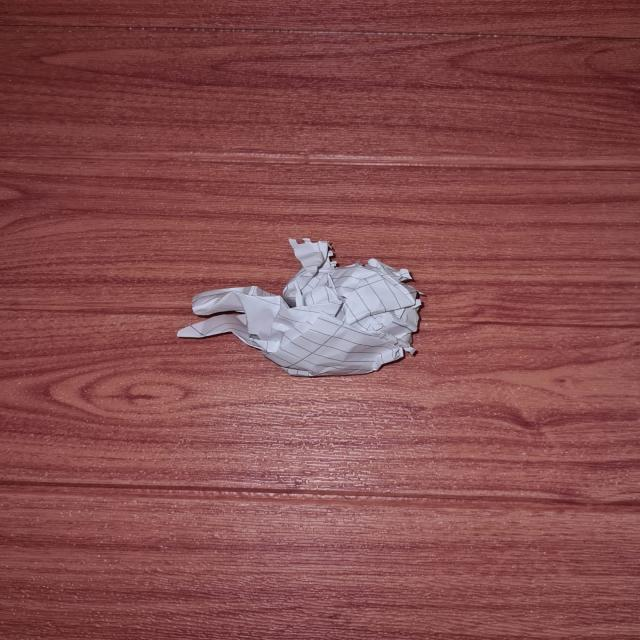Paper: (178, 242, 421, 368)
